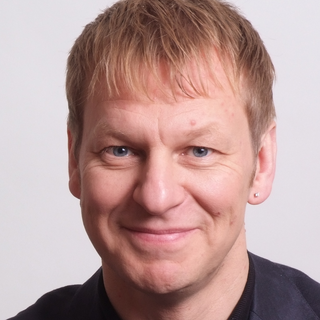eye: (172, 139, 228, 165), (90, 140, 146, 165)
